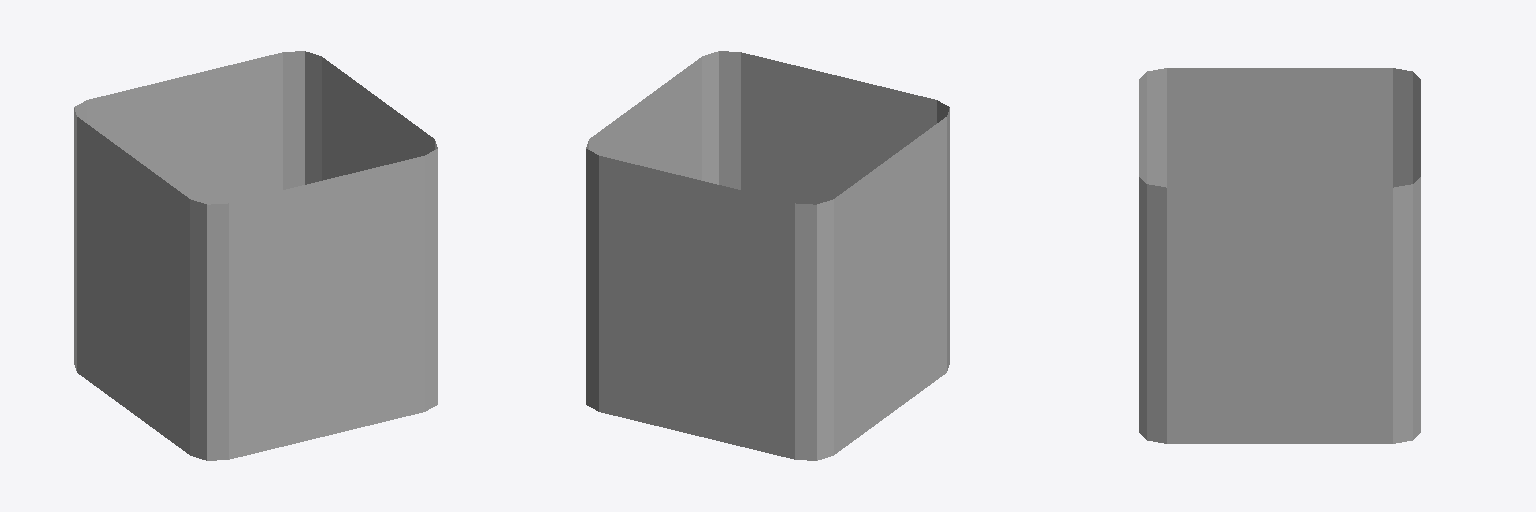
The model's file is Grass_Middle.obj.
3 views of the same model, side by side, from view 1: azimuth 30°, elevation 25°; view 2: azimuth 150°, elevation 25°; view 3: azimuth 270°, elevation 25° (orthographic).
Visible parts, largest first — view 1: Grass_Top.001; view 2: Grass_Top.001; view 3: Grass_Top.001.
Boxes of the visible parts, x1,y1,x2,y2 form: Grass_Top.001: [74, 51, 437, 460]; Grass_Top.001: [586, 51, 949, 460]; Grass_Top.001: [1139, 68, 1420, 443].
Bounding box in the file's own units: 1 × 1 × 1.